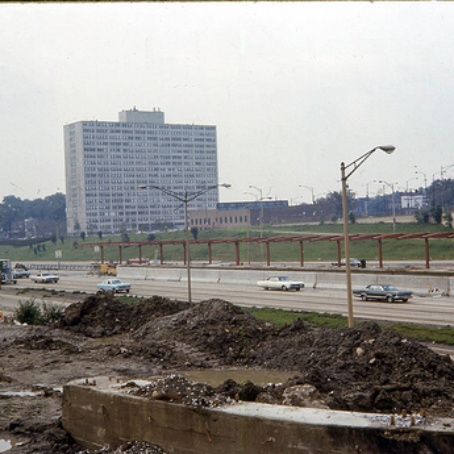building: (61, 108, 220, 233)
car: (354, 281, 415, 303), (258, 272, 305, 296), (89, 279, 133, 294), (27, 268, 58, 285)
dirt: (4, 305, 437, 442)
light pole: (335, 140, 400, 337), (138, 181, 227, 306)
road: (7, 262, 454, 318)
sky: (1, 1, 448, 175)
